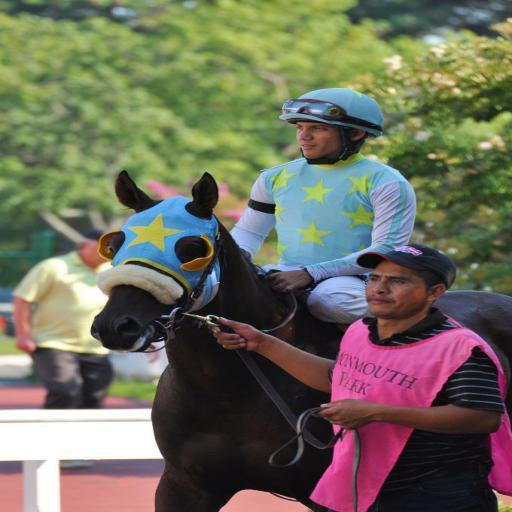horse: (88, 168, 512, 512)
